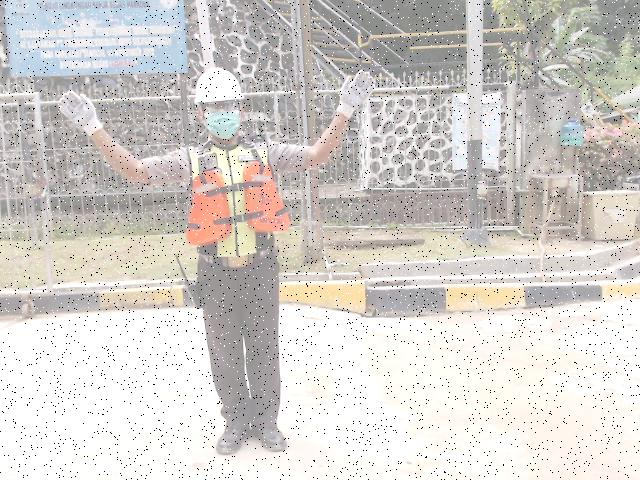glasses: (203, 102, 240, 113)
gloves: (55, 88, 107, 139), (335, 67, 374, 121)
helmet: (193, 67, 244, 103)
mask: (203, 112, 242, 142)
safety-shoes: (214, 417, 251, 456), (252, 420, 288, 453)
vest: (181, 160, 292, 246)
